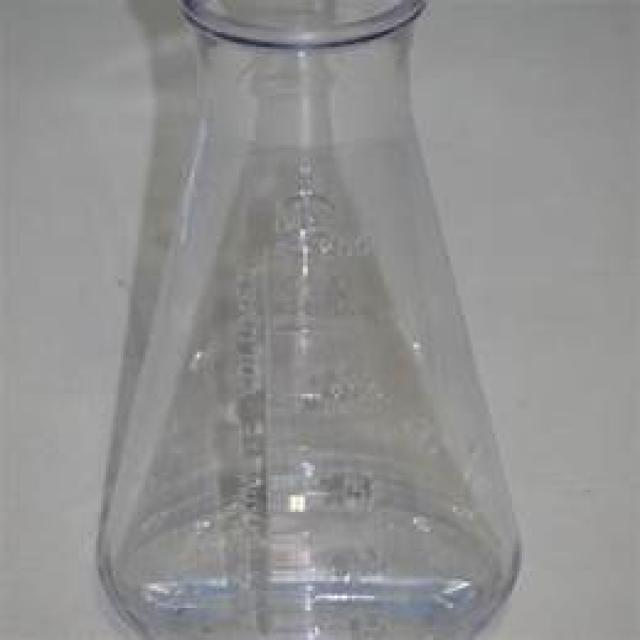Titrarion: (95, 19, 536, 625)
